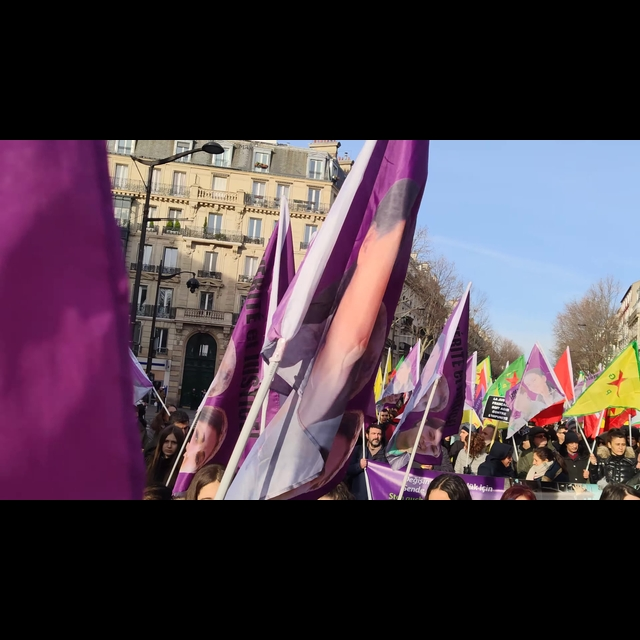YPG: (570, 337, 640, 418)
